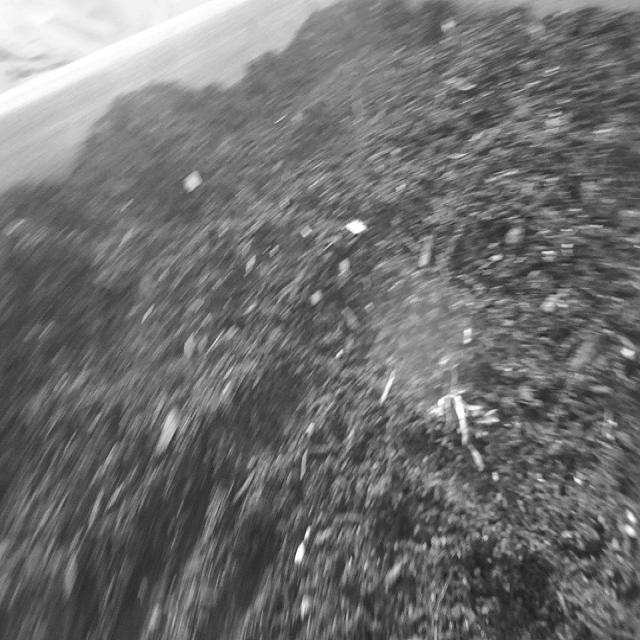Unhealthy: (429, 360, 502, 460)
